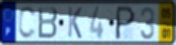3: (139, 6, 155, 41)
4: (88, 4, 106, 42)
B: (37, 5, 59, 40)
C: (17, 5, 38, 41)
K: (67, 6, 83, 40)
P: (114, 5, 137, 42)
